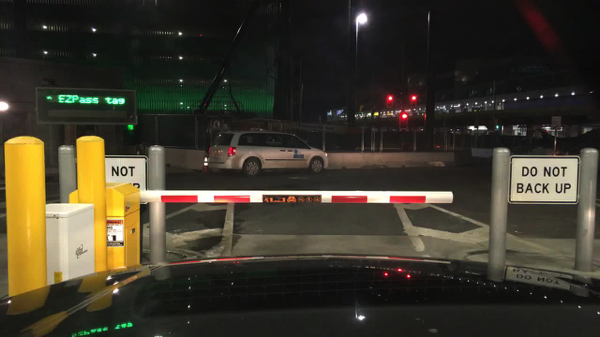car: (206, 127, 329, 177)
traffic light: (386, 92, 394, 110), (409, 92, 418, 107), (401, 111, 408, 129), (494, 123, 501, 132)
traffic sign: (35, 86, 138, 123), (510, 156, 576, 204), (104, 156, 147, 204), (551, 116, 560, 130)
